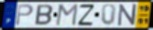0: (101, 3, 118, 27)
B: (33, 3, 54, 26)
M: (54, 4, 79, 27)
N: (118, 3, 138, 27)
P: (15, 3, 35, 27)
Z: (77, 4, 96, 27)
